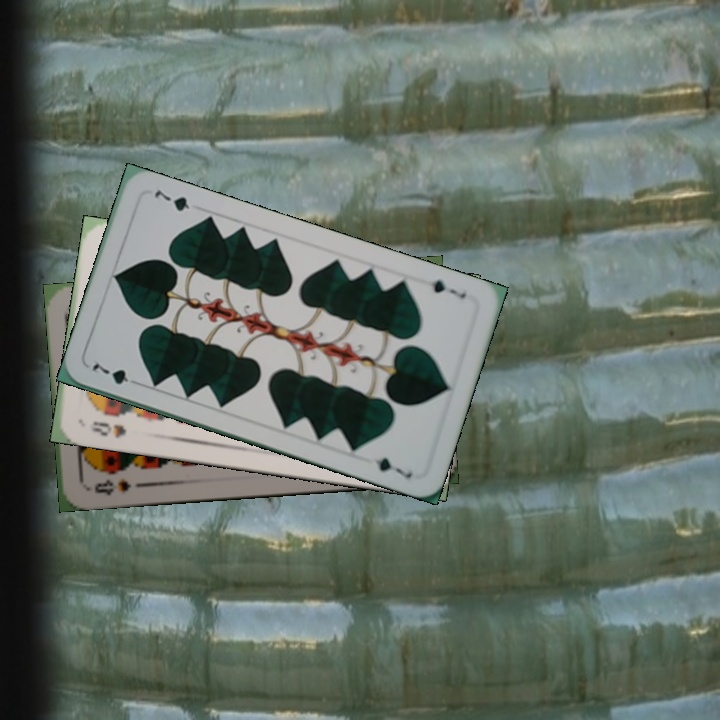G7: (88, 359, 144, 387), (420, 275, 469, 301)
S8: (90, 475, 134, 498), (87, 417, 128, 441)
